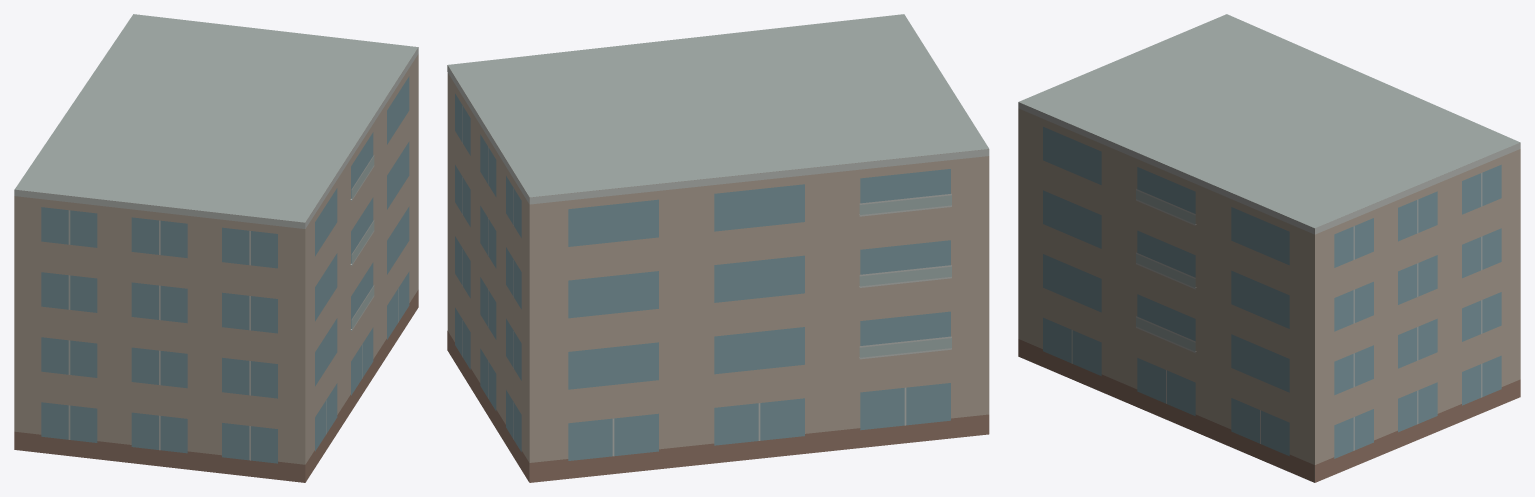
The model's file is survey-upis-32988867.glb.
3 renders of one model, left to right at view 1: azimuth 30°, elevation 25°; view 2: azimuth 150°, elevation 25°; view 3: azimuth 270°, elevation 25°, orthographic. The views are drawn at different scales.
Visible parts, largest first — view 1: survey-upis-32988867.tmp; view 2: survey-upis-32988867.tmp; view 3: survey-upis-32988867.tmp.
Part boxes in pixels (x1,y1,x2,y2): survey-upis-32988867.tmp: (14, 14, 418, 482); survey-upis-32988867.tmp: (447, 14, 989, 482); survey-upis-32988867.tmp: (1018, 14, 1520, 482).
Bounding box in the file's own units: 17.71 × 9.8 × 17.54.
